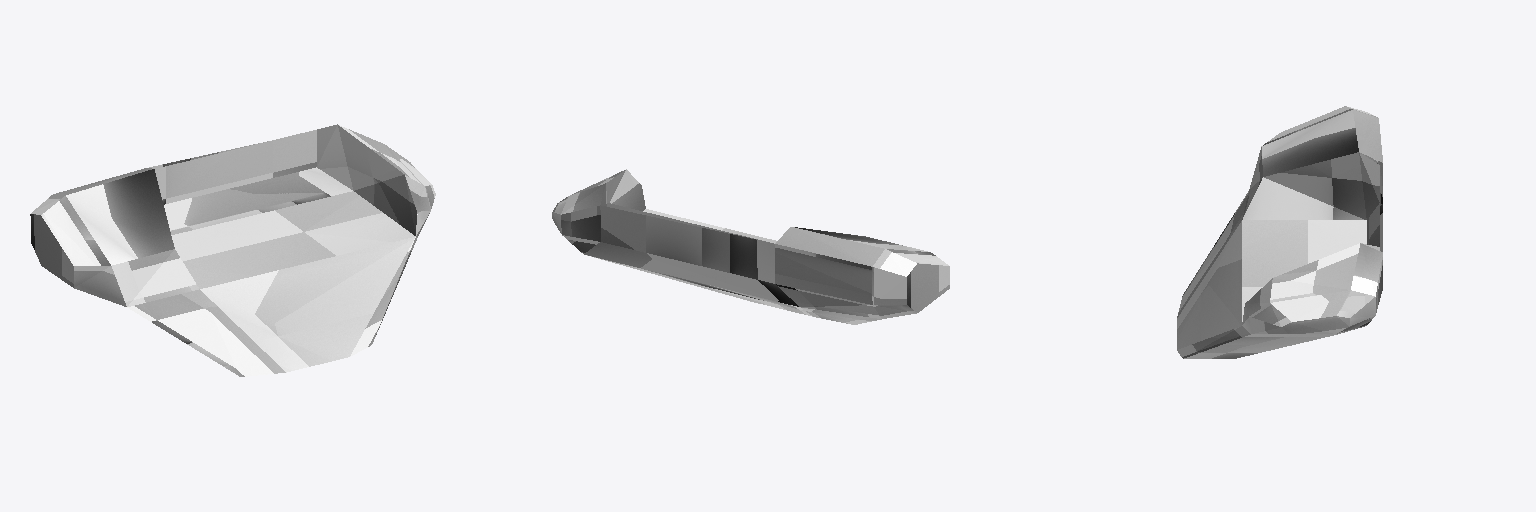
The picture shows the model from 3 angles: view 1: azimuth 30°, elevation 25°; view 2: azimuth 150°, elevation 25°; view 3: azimuth 270°, elevation 25°; orthographic projection.
Visible parts, largest first — view 1: Cube.006_Cube.015; view 2: Cube.006_Cube.015; view 3: Cube.006_Cube.015.
Part boxes in pixels (left/top/right/bottom): Cube.006_Cube.015: left=30, top=124, right=435, bottom=376; Cube.006_Cube.015: left=552, top=169, right=949, bottom=324; Cube.006_Cube.015: left=1177, top=106, right=1382, bottom=358.
Bounding box in the file's own units: 3.37 × 1.3 × 1.66.
1 materials, 1 textured.